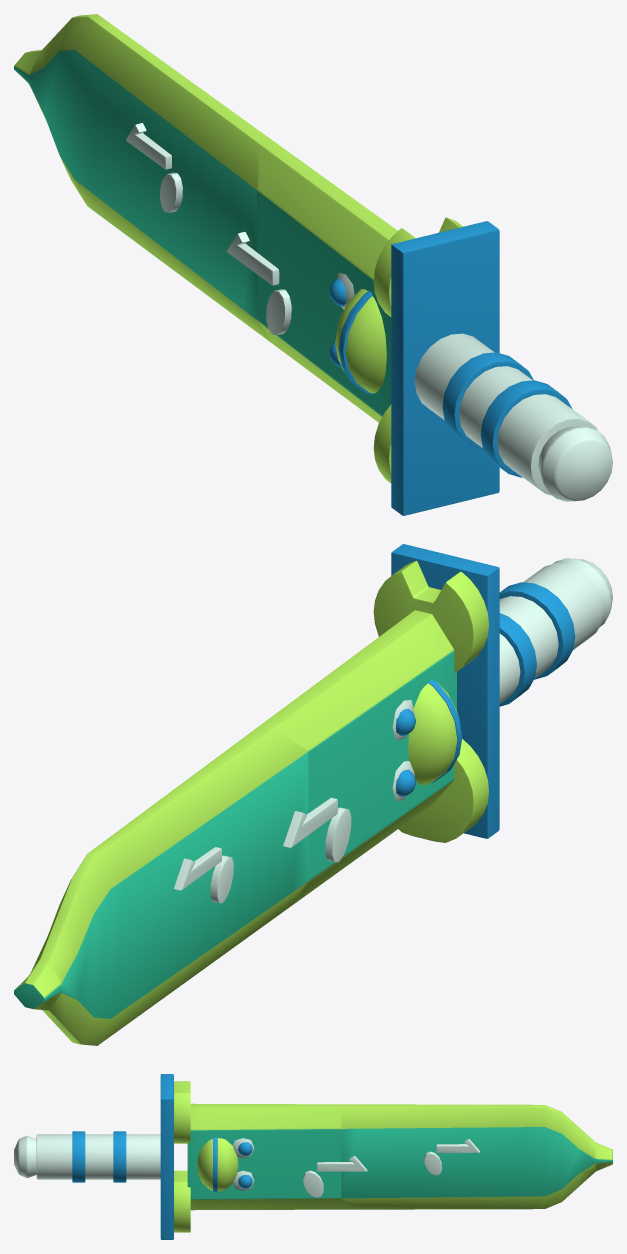
The model's file is Sword_FrogsongGreatsword.glb.
3 renders of one model, top to bottom at view 1: azimuth 30°, elevation 25°; view 2: azimuth 150°, elevation 25°; view 3: azimuth 270°, elevation 25°, orthographic. The views are drawn at different scales.
Visible parts, largest first — view 1: Sword_FrogsongGreatsword; view 2: Sword_FrogsongGreatsword; view 3: Sword_FrogsongGreatsword.
Boxes of the visible parts, x1,y1,x2,y2 form: Sword_FrogsongGreatsword: [14, 14, 612, 515]; Sword_FrogsongGreatsword: [14, 544, 612, 1045]; Sword_FrogsongGreatsword: [14, 1074, 612, 1239].
Size of the model in its own units: 0.1239 by 0.26 by 1.
1 material, 1 textured.
